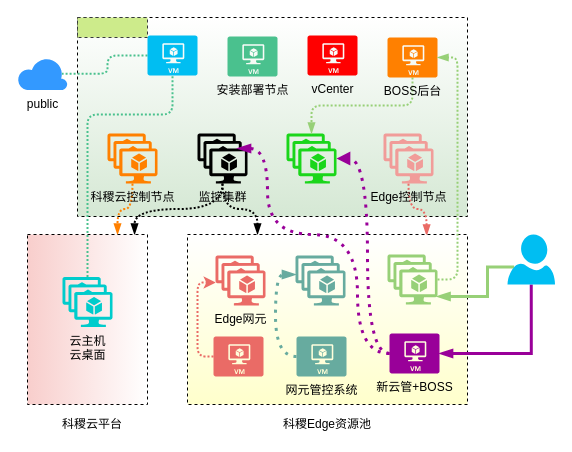
The diagram is 572 pixels wide and 452 high, and some of its shapes have lost their labels. Here are the shapes that lost their labels. From the top down, the centre of each, then its label:
At point 112,27: "esxi虚拟机".
At point 172,55: "BNG".
At point 311,158: "数据库集群".
At point 320,280: "防火墙等网元".
At point 412,279: "分销商portal".
At point 238,356: "FlexSMS+GS".
